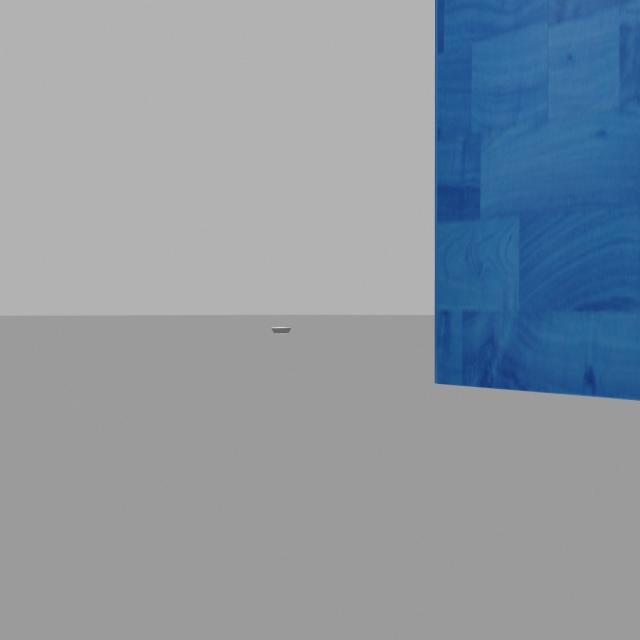bowl: (264, 317, 294, 344)
shelf: (421, 0, 640, 405)
